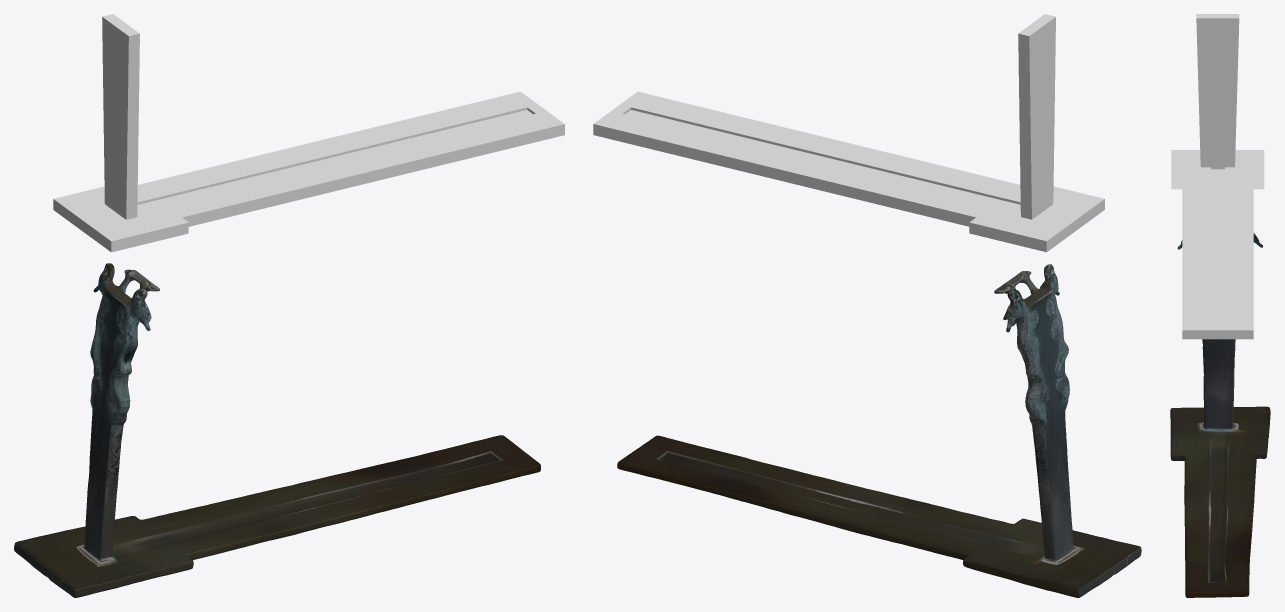
3 renders of one model, left to right at view 1: azimuth 30°, elevation 25°; view 2: azimuth 150°, elevation 25°; view 3: azimuth 270°, elevation 25°, orthographic. The views are drawn at different scales.
Parts seen in each view (by area): view 1: tripo_node_ae1849df, 立方体, 立方体.001; view 2: tripo_node_ae1849df, 立方体, 立方体.001; view 3: tripo_node_ae1849df, 立方体, 立方体.001.
Boxes of the visible parts, x1=… form: tripo_node_ae1849df: x1=14, y1=263, x2=540, y2=597; 立方体: x1=138, y1=91, x2=564, y2=226; 立方体.001: x1=53, y1=14, x2=188, y2=252; tripo_node_ae1849df: x1=617, y1=264, x2=1141, y2=597; 立方体: x1=593, y1=91, x2=1019, y2=226; 立方体.001: x1=969, y1=14, x2=1104, y2=252; tripo_node_ae1849df: x1=1170, y1=233, x2=1270, y2=597; 立方体: x1=1182, y1=180, x2=1253, y2=339; 立方体.001: x1=1171, y1=14, x2=1264, y2=189.
Size of the model in its own units: 1293 by 1327 by 281.
